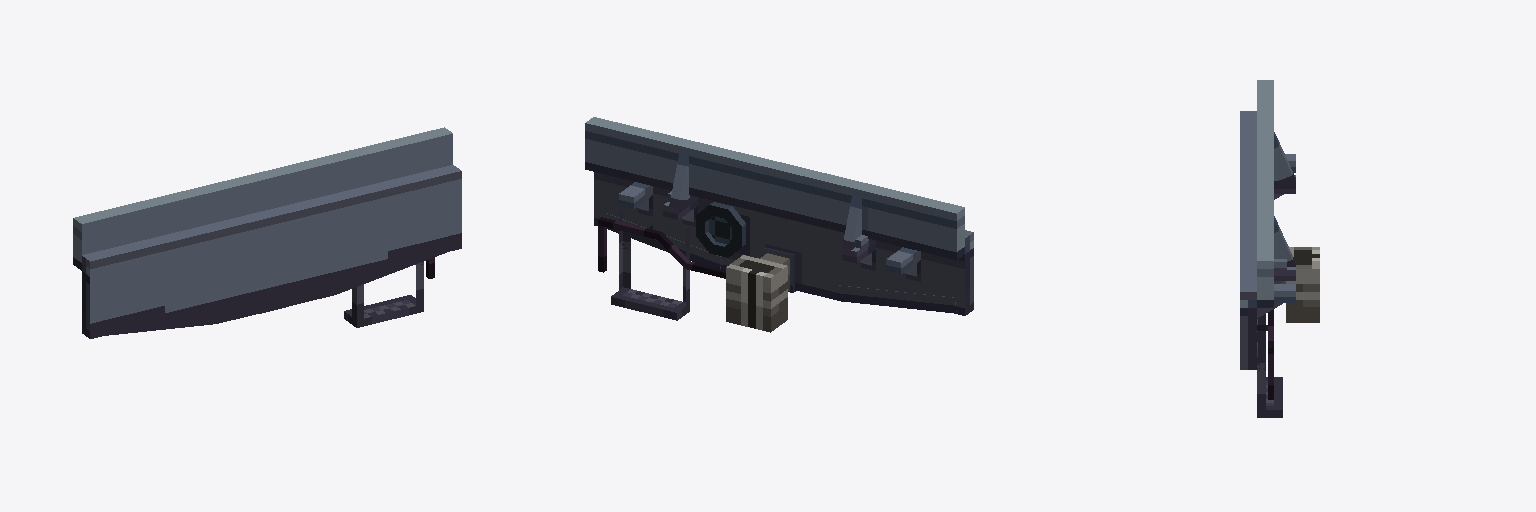
The picture shows the model from 3 angles: view 1: azimuth 30°, elevation 25°; view 2: azimuth 150°, elevation 25°; view 3: azimuth 270°, elevation 25°; orthographic projection.
Visible parts, largest first — view 1: cube; view 2: cube; view 3: cube.
Part boxes in pixels (bbox=[...]): cube: bbox=[73, 127, 461, 338]; cube: bbox=[585, 117, 973, 332]; cube: bbox=[1240, 80, 1319, 417].
Bounding box in the file's own units: 3.12 × 1.38 × 0.5855.
2 materials, 2 textured.